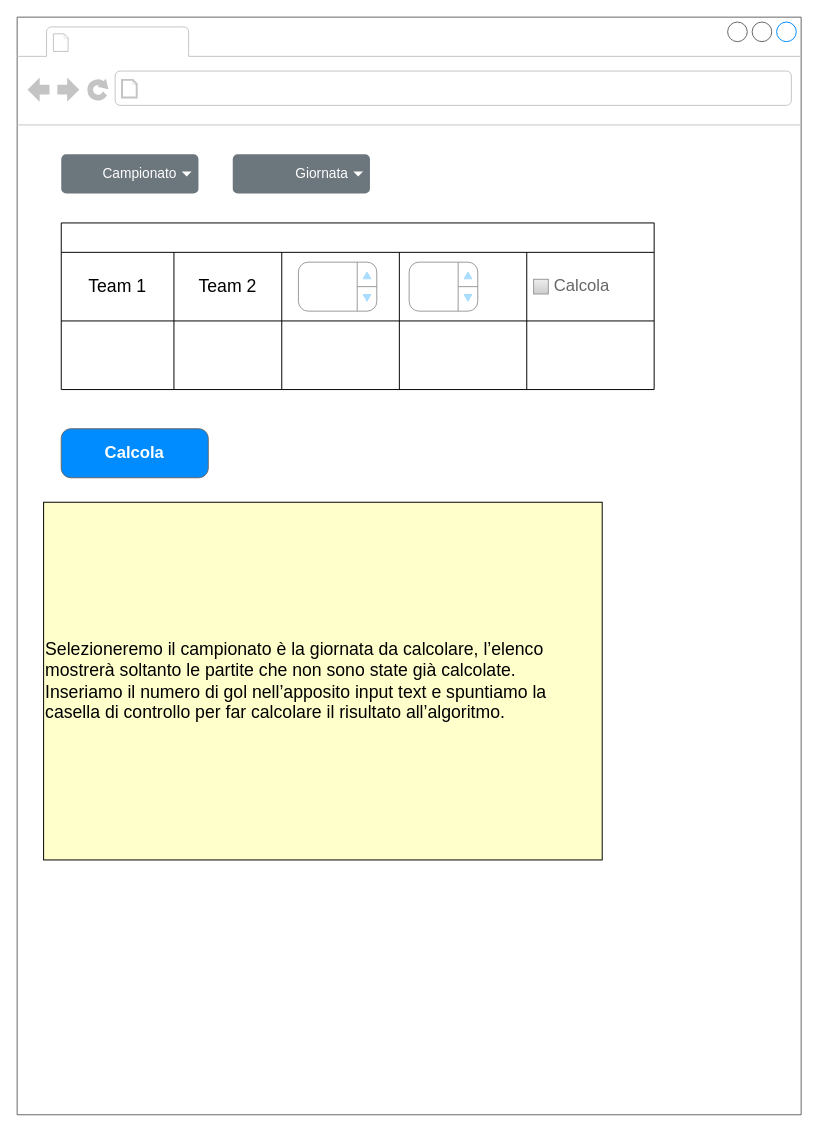
Some shapes in this 818 by 1132 pixel diagram are drawn without their labels. The shapes that lost their labels are listed below. From the top down, each one's box as (x1, y1, x2, y2) in pixels, then its label:
(75, 28, 184, 54): Page 1
(144, 75, 390, 101): Script aggiornamento dati
(60, 222, 654, 390): Match
